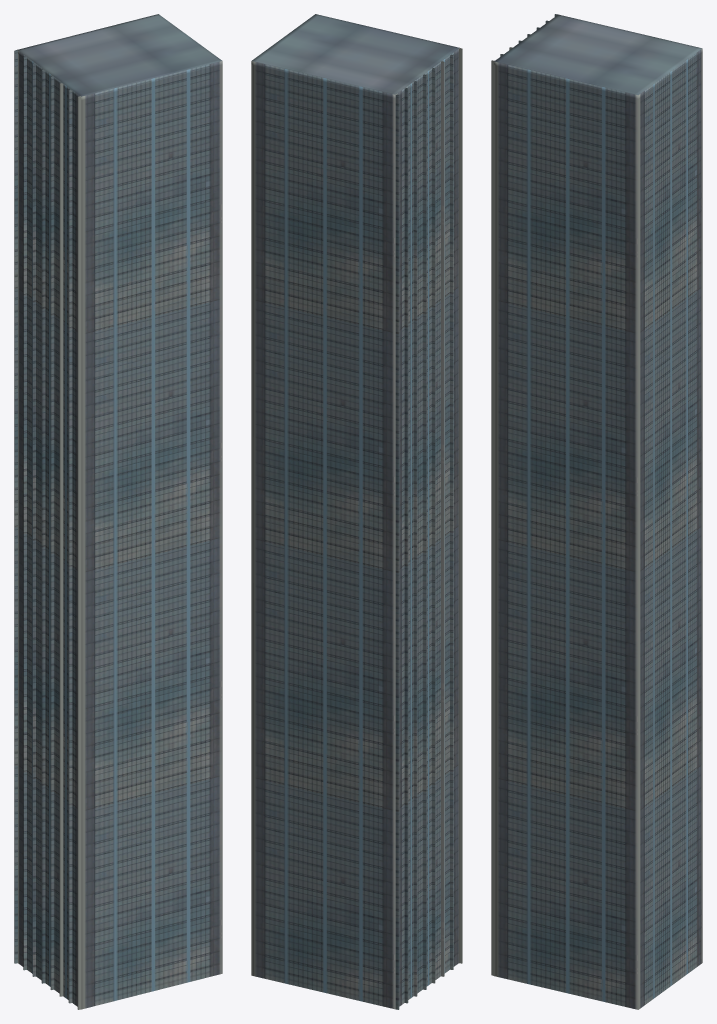
Rendered from 00_03_outside_building_c.dae.
3 renders of one model, left to right at view 1: azimuth 30°, elevation 25°; view 2: azimuth 150°, elevation 25°; view 3: azimuth 330°, elevation 25°, orthographic.
Visible parts, largest first — view 1: Bc-Pivot; view 2: Bc-Pivot; view 3: Bc-Pivot.
Part boxes in pixels (x1,y1,x2,y2): Bc-Pivot: (14, 14, 222, 1009); Bc-Pivot: (251, 14, 462, 1009); Bc-Pivot: (491, 14, 702, 1009).
Bounding box in the file's own units: 44.67 × 268 × 34.79.
